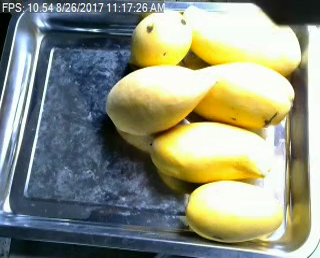Mango: (182, 5, 301, 76), (105, 66, 215, 134), (152, 123, 269, 183), (188, 63, 295, 126), (184, 180, 285, 242), (132, 12, 191, 66)
